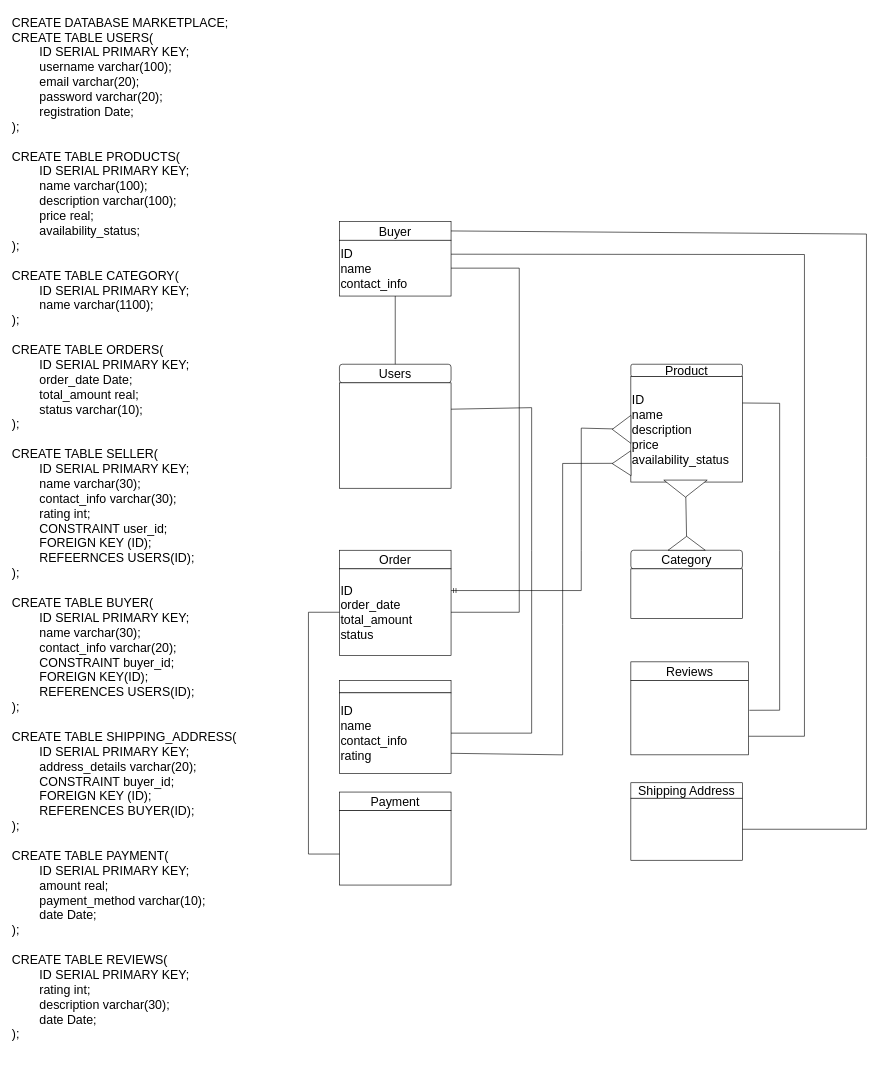
Some shapes in this 878 by 1065 pixel diagram are drawn without their labels. The centre of each missing label's shape, as x and y in pixels:
ID address_details buyer_ID: [686,829]
ID amount payment_method date: [395,847]
ID name: [686,593]
ID rating description date: [689,717]
ID username email password registration_date: [395,435]
Seller: [395,686]
